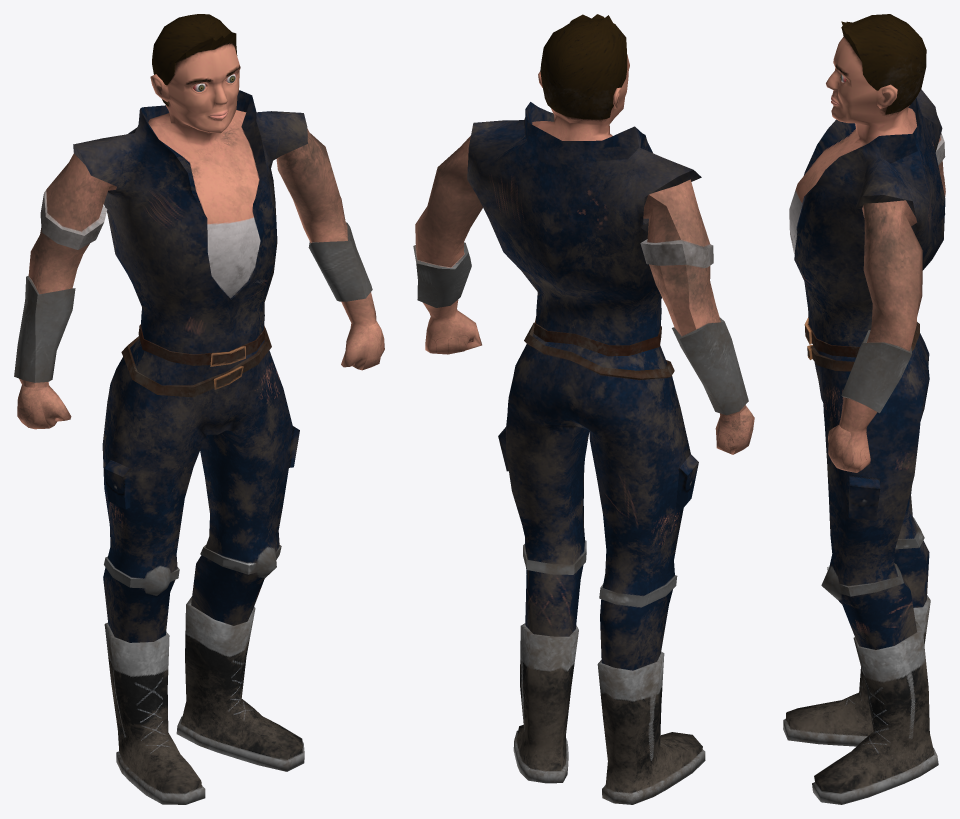
File: Anim_abrir_puerta_ok_jugador.0038.obj
3 renders of one model, left to right at view 1: azimuth 30°, elevation 25°; view 2: azimuth 150°, elevation 25°; view 3: azimuth 270°, elevation 25°, orthographic.
Visible parts, largest first — view 1: polySurface1; view 2: polySurface1; view 3: polySurface1.
Part boxes in pixels (box(x1,y1,x2,y2)): polySurface1: box(14, 14, 384, 804); polySurface1: box(413, 14, 754, 804); polySurface1: box(783, 14, 945, 804).
Bounding box in the file's own units: 4.64 × 9.69 × 1.92.
